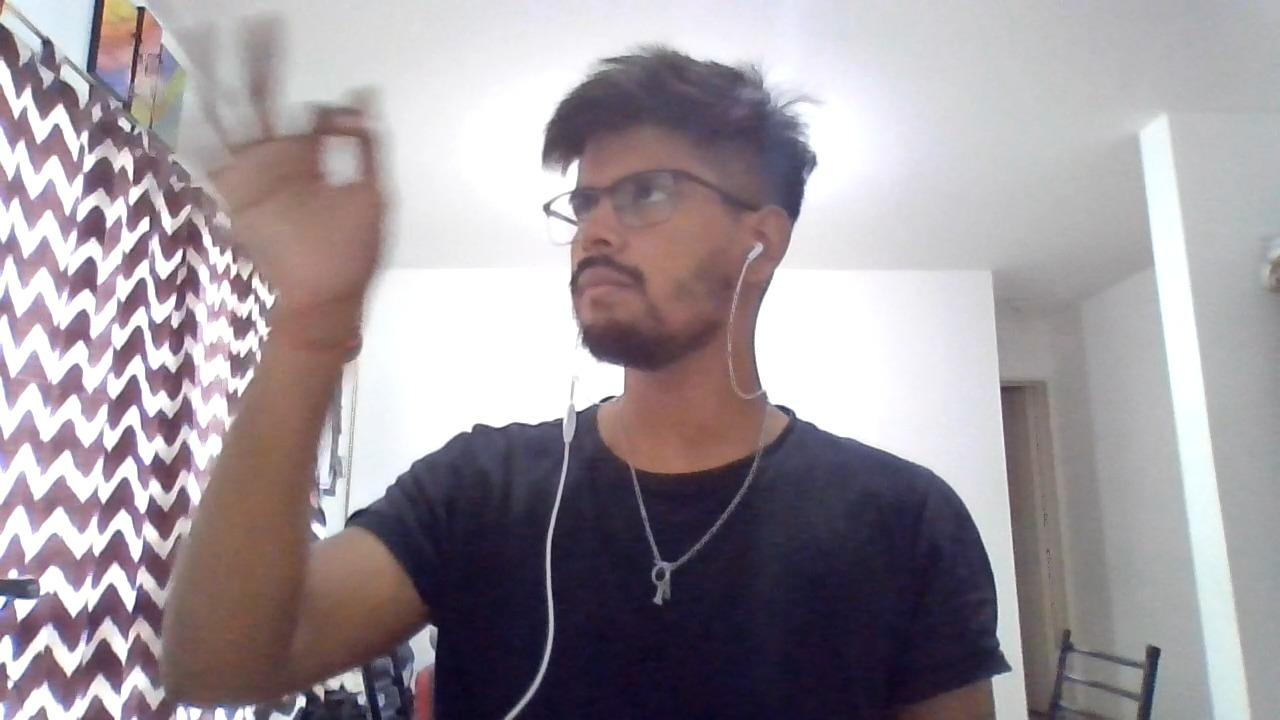Hospital: (88, 12, 930, 607)
